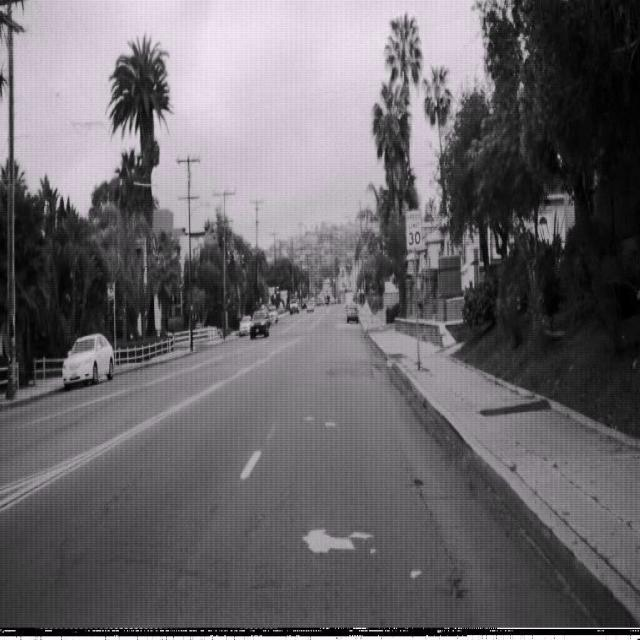speedLimit30: (405, 208, 424, 252)
